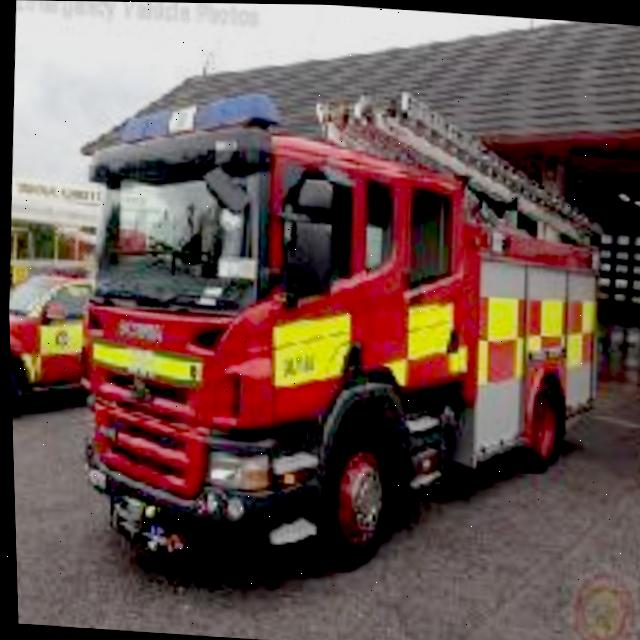emergency: (66, 113, 606, 582), (6, 256, 136, 421)
